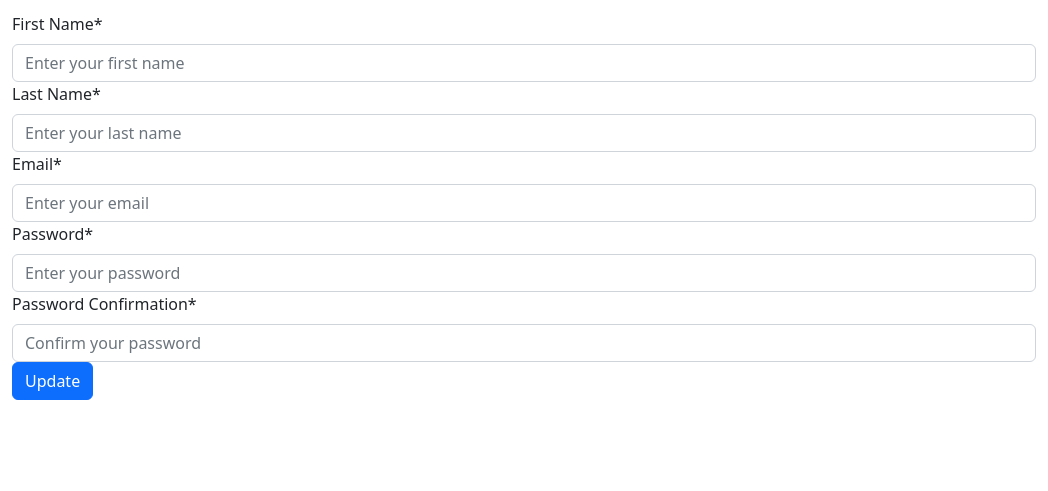
Test case: The User Profile Component › displays error message if first name blank
Type "Smith" into the field labelled "Last Name*" at point(524, 133), box [12,114,1036,152]
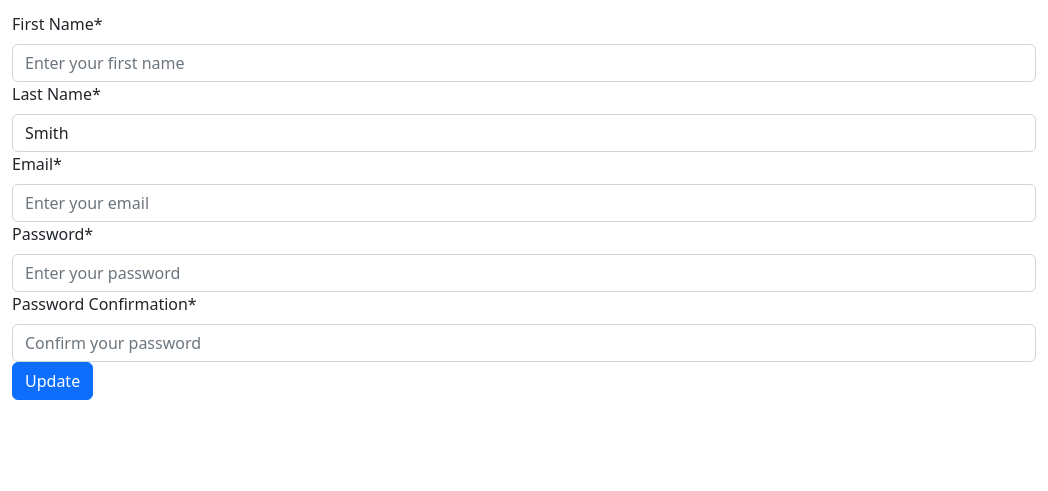
Type "adc@def.com" into the field labelled "Email*" at point(524, 203), box [12,184,1036,222]
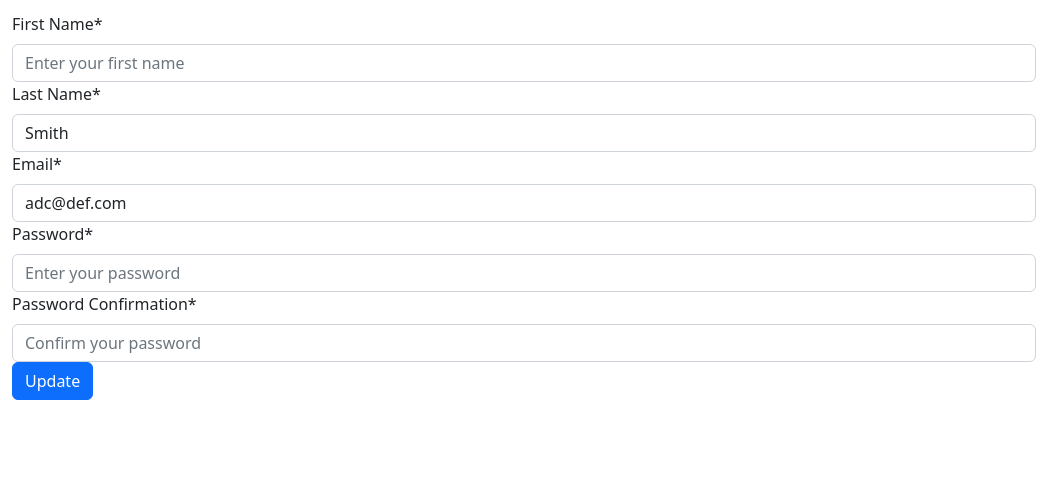
Type "ValidPassword1" into the password field labelled "Password*" at point(524, 273), box [12,254,1036,292]
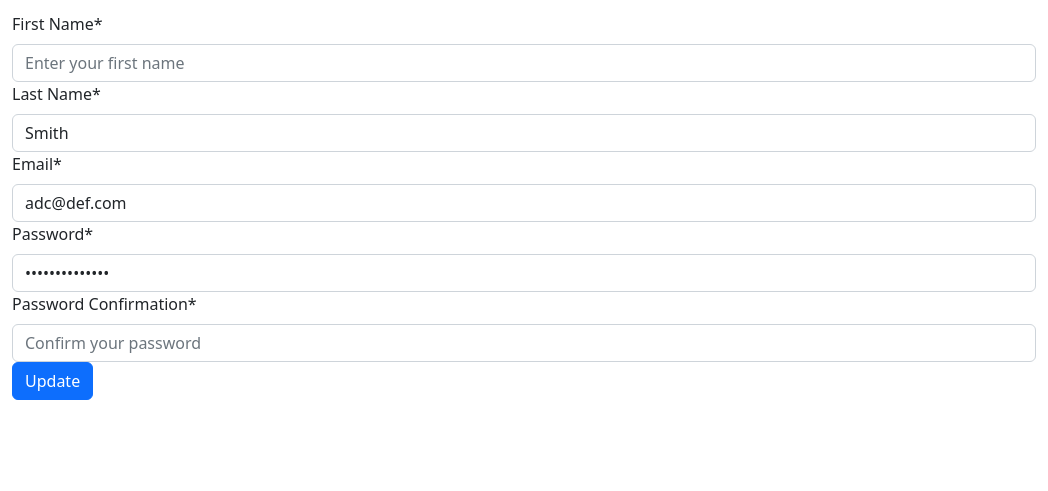
Type "ValidPassword1" into the password field labelled "Password Confirmation*" at point(524, 343), box [12,324,1036,362]
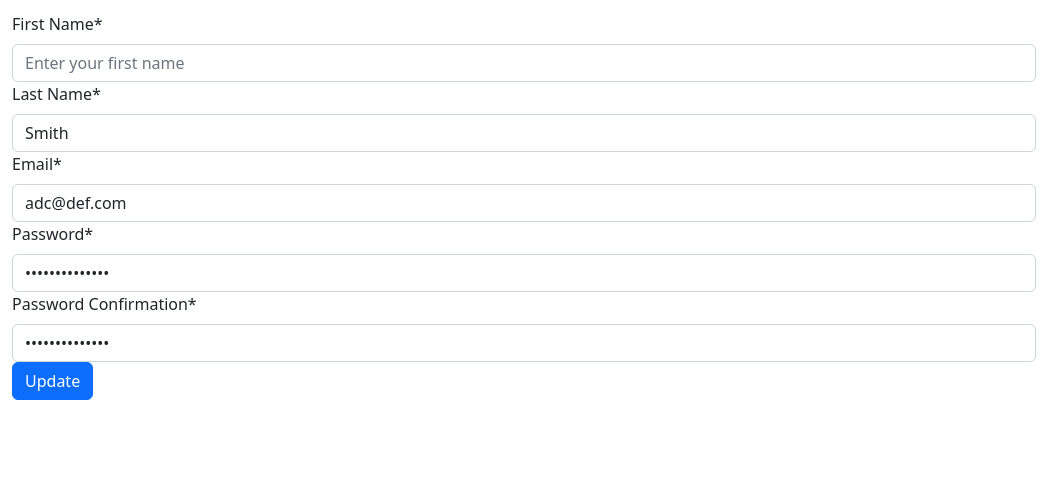
Click the button "Update" at point(53, 381), box [12,362,93,400]
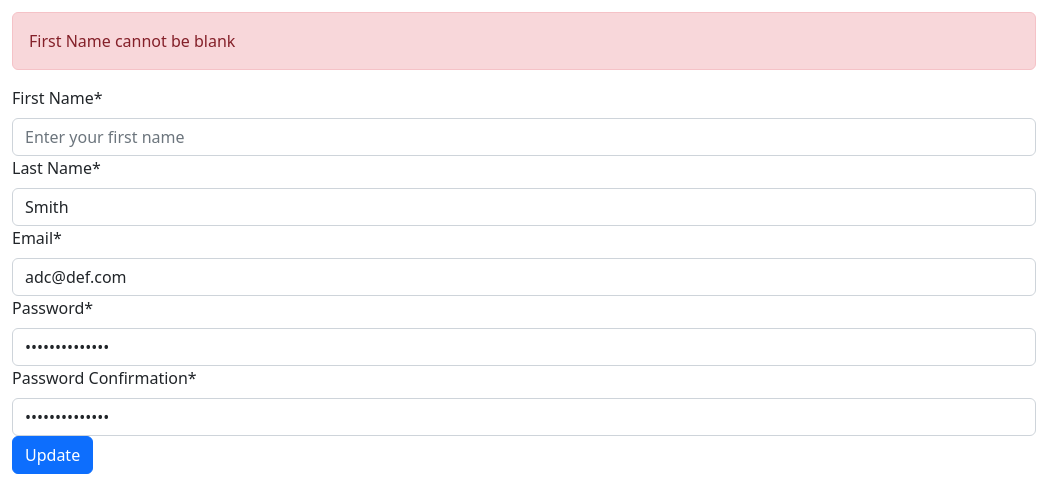
Expected: the text "First Name cannot be blank" is shown, [12,12,1036,70]
